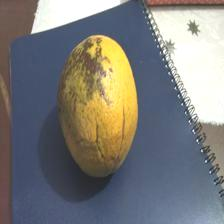Orange Rotten: (53, 28, 144, 184)
